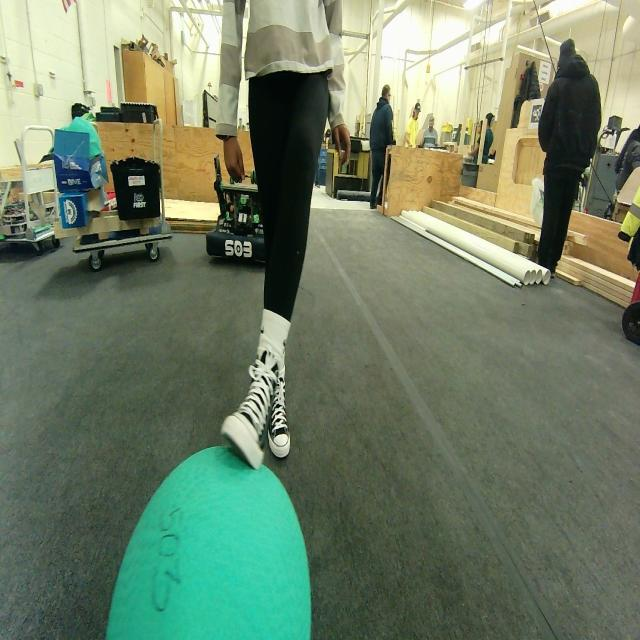algae: (108, 440, 318, 640)
